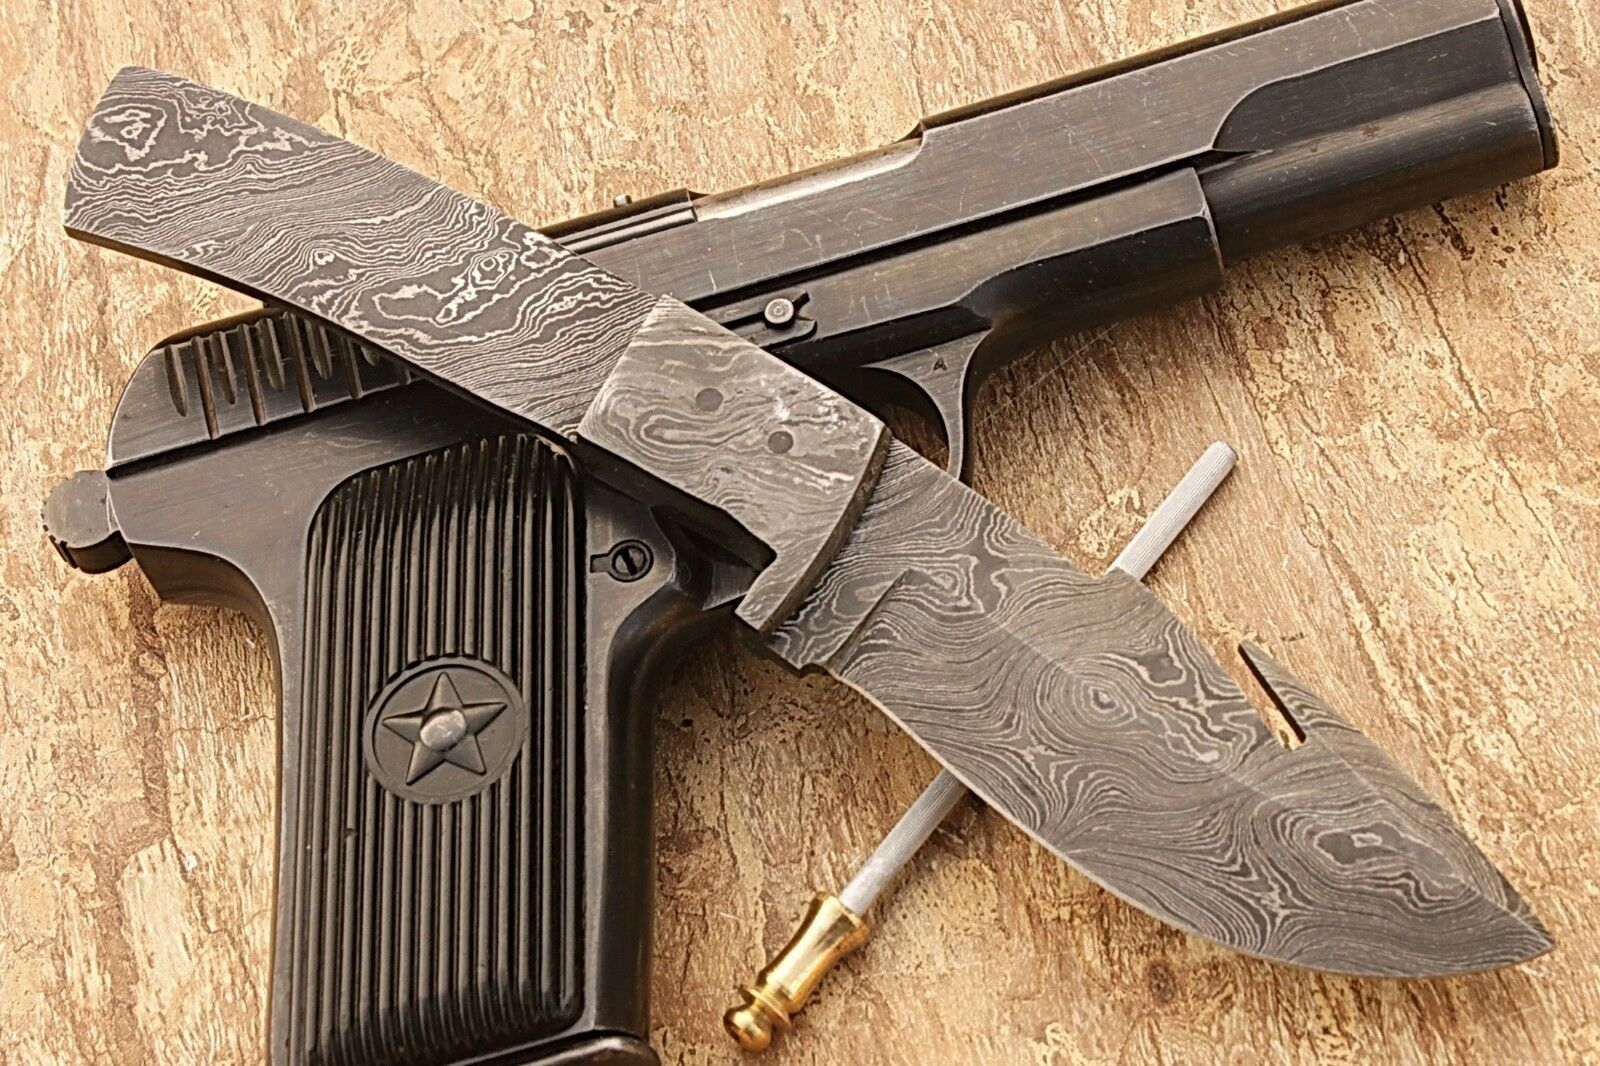knief: (98, 83, 1568, 964)
